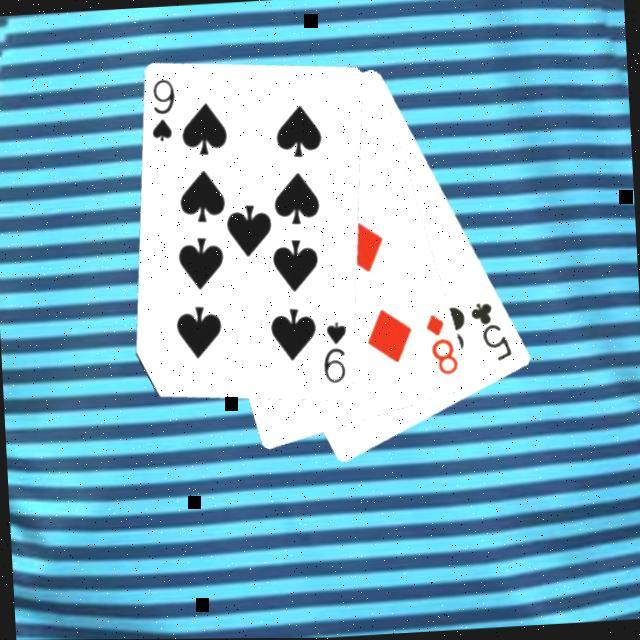5C: (466, 298, 516, 366)
8D: (420, 309, 462, 379)
9S: (317, 318, 352, 388), (146, 74, 180, 146)
